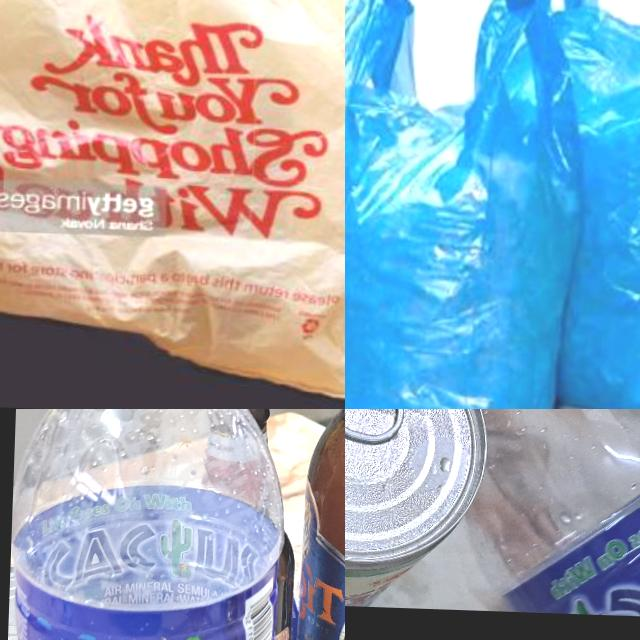aba de lata: (345, 409, 408, 441)
garrafa de vidro: (196, 409, 299, 640)
garrafa plástica: (4, 409, 292, 640), (449, 409, 640, 620)
lata: (345, 409, 493, 610)
sacola plástica: (0, 0, 345, 406), (345, 0, 573, 409), (462, 0, 640, 409)
